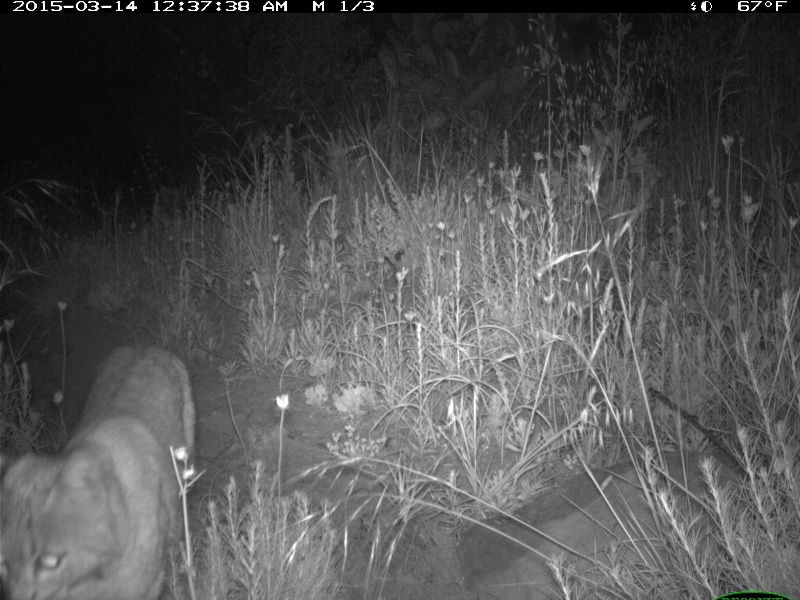cat: (5, 341, 196, 597)
